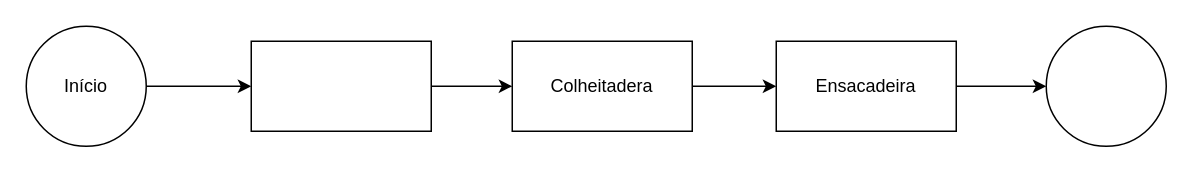
The diagram is 1193 pixels wide and 173 high, and some of its shapes have lost their labels. Here are the shapes that lost their labels. From the top down, the box of each, then its label:
(250, 40, 431, 131): Plantadeira
(1045, 25, 1166, 146): Fim
